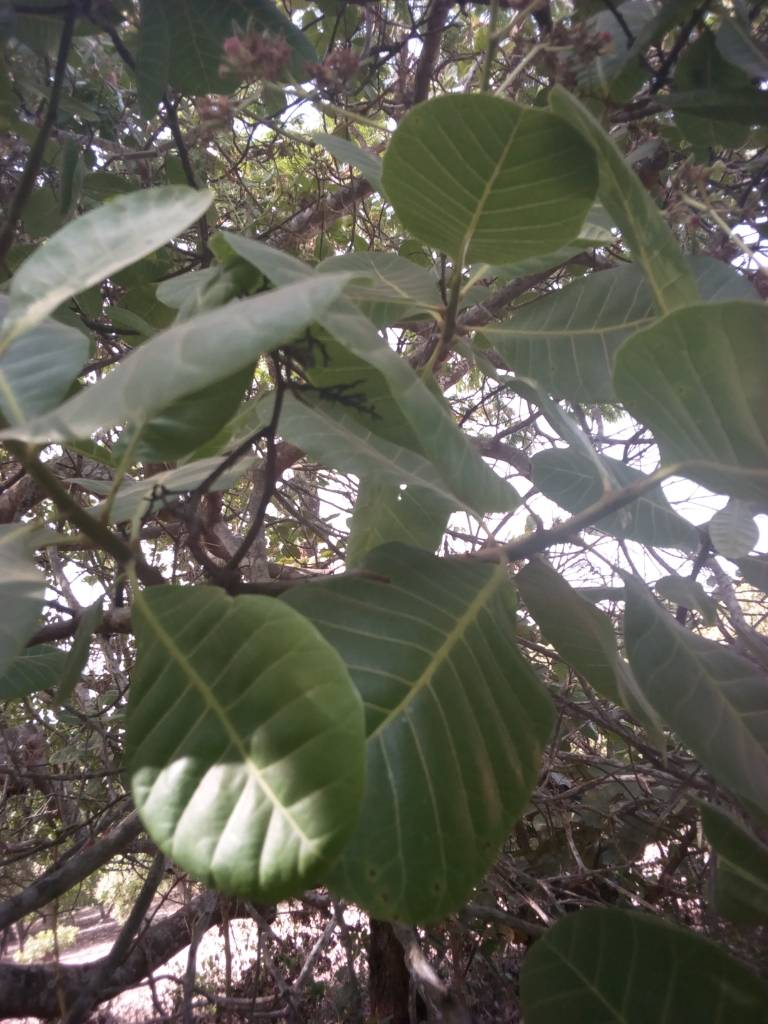Anthracnose: (349, 802, 529, 932)
